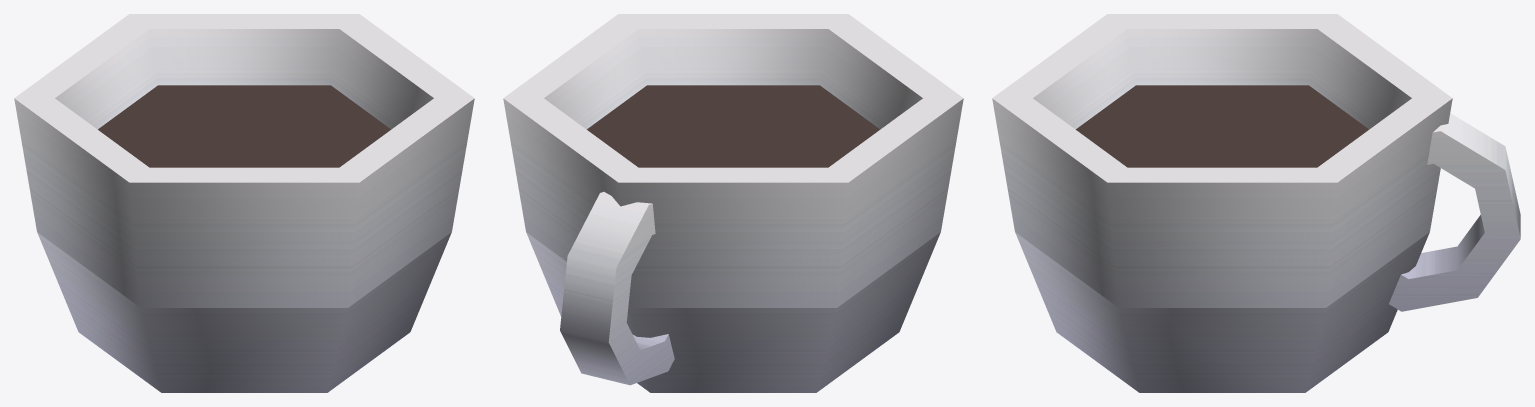
Rendered from cup-coffee.glb.
3 views of the same model, side by side, from view 1: azimuth 30°, elevation 25°; view 2: azimuth 150°, elevation 25°; view 3: azimuth 270°, elevation 25° (orthographic).
Visible parts, largest first — view 1: cup-coffee; view 2: cup-coffee; view 3: cup-coffee.
Part boxes in pixels (left/top/right/bottom): cup-coffee: left=14, top=14, right=474, bottom=392; cup-coffee: left=503, top=14, right=963, bottom=392; cup-coffee: left=992, top=14, right=1520, bottom=392.
Bounding box in the file's own units: 0.2163 × 0.14 × 0.2866.
Materials: 1 (1 with a texture image).
